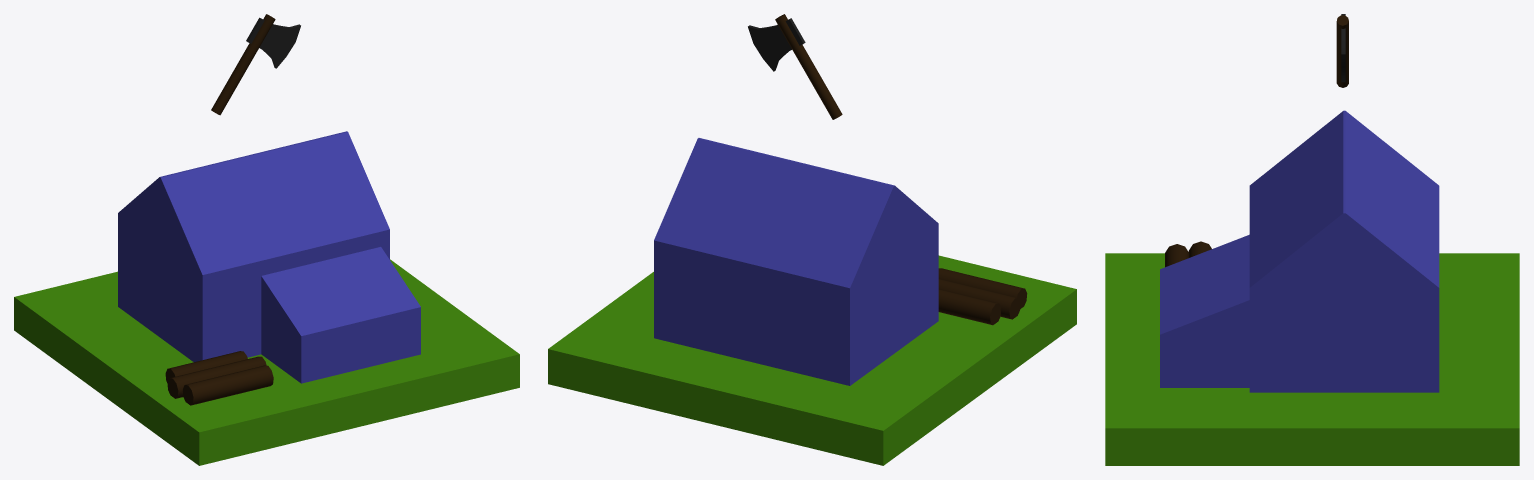
The model's file is Woodworker1.obj.
The picture shows the model from 3 angles, left to right: view 1: azimuth 30°, elevation 25°; view 2: azimuth 150°, elevation 25°; view 3: azimuth 270°, elevation 25°; orthographic projection. The views are drawn at different scales.
Parts seen in each view (by area): view 1: Box693, Tilebase106, Cylinder034, Box694, Cylinder033, Cylinder035, Cylinder032; view 2: Box693, Tilebase106, Cylinder032, Box694, Cylinder035, Cylinder033, Cylinder034; view 3: Box693, Tilebase106, Cylinder035.
Boxes of the visible parts, x1,y1,x2,y2 form: Box693: (118,131,420,383); Tilebase106: (14,259,519,465); Cylinder034: (182,365,273,405); Box694: (246,17,300,68); Cylinder033: (167,356,266,398); Cylinder035: (211,14,275,115); Cylinder032: (165,351,247,382); Box693: (654,138,938,385); Tilebase106: (548,255,1076,465); Cylinder032: (938,289,1000,325); Box694: (748,18,805,71); Cylinder035: (775,14,842,119); Cylinder033: (938,278,1020,319); Cylinder034: (938,268,1027,308); Box693: (1160,110,1439,392); Tilebase106: (1105,253,1519,465); Cylinder035: (1336,15,1348,87).
Size of the model in its own units: 10 by 9.86 by 10.
